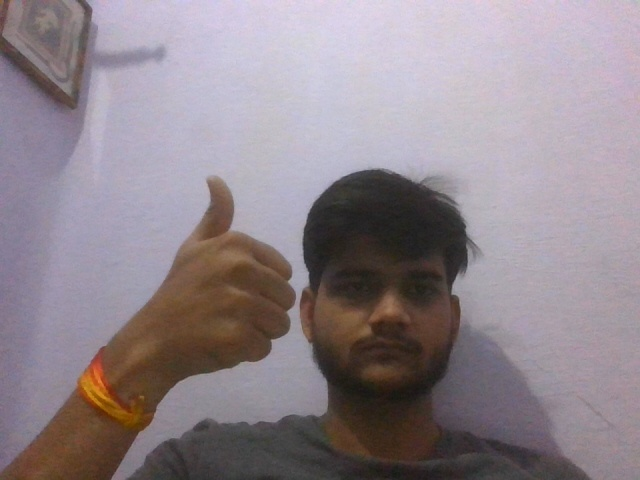thanks: (123, 167, 303, 391)
